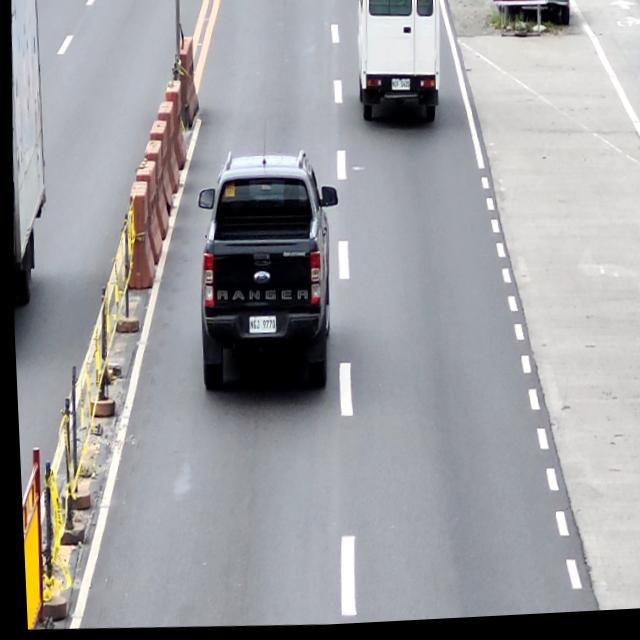Car: (188, 148, 344, 400), (346, 0, 446, 133)
License-Plate: (244, 318, 275, 337), (389, 80, 409, 94)
